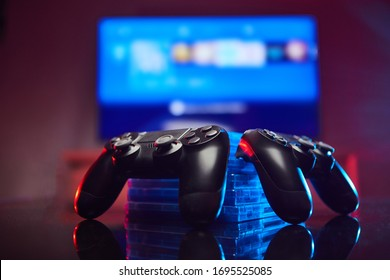gamingconsole: (72, 127, 232, 228), (238, 128, 360, 223)
